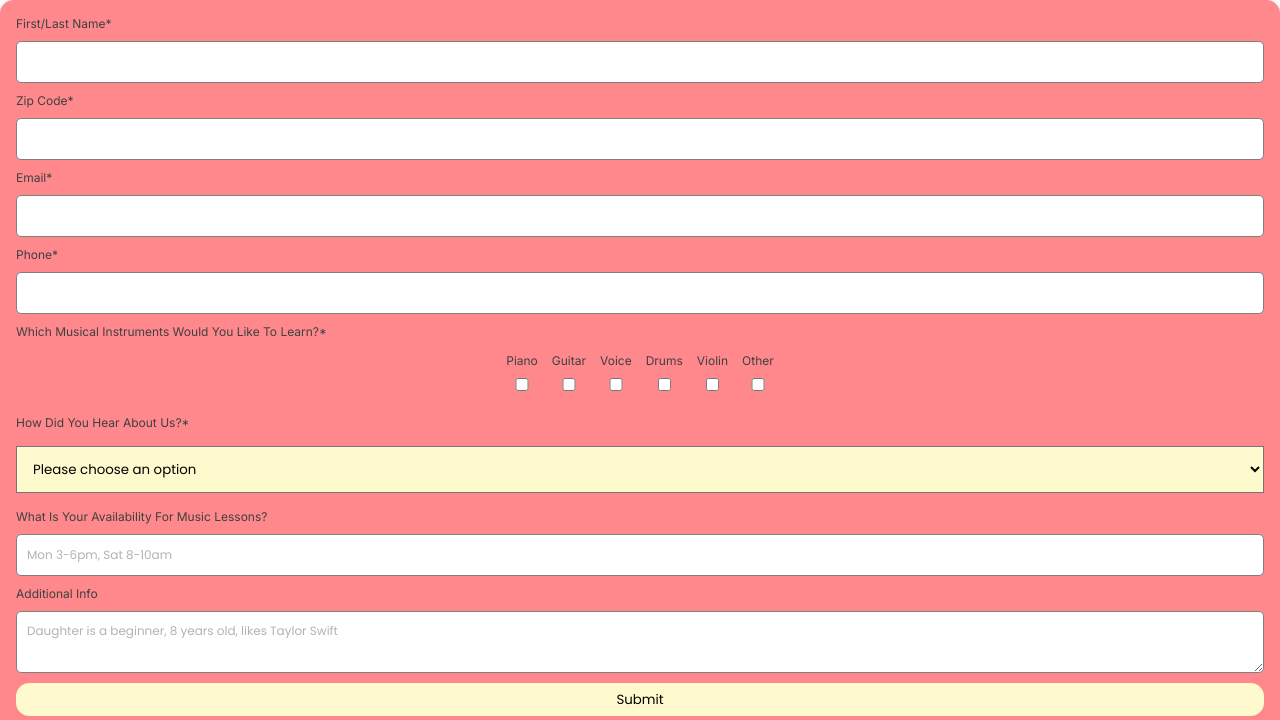
it: Form Input › validiation errors › renders the zipCode validation error for not having ANY digits
Click the button at (640, 700), box x1=16 y1=683 x2=1264 y2=716
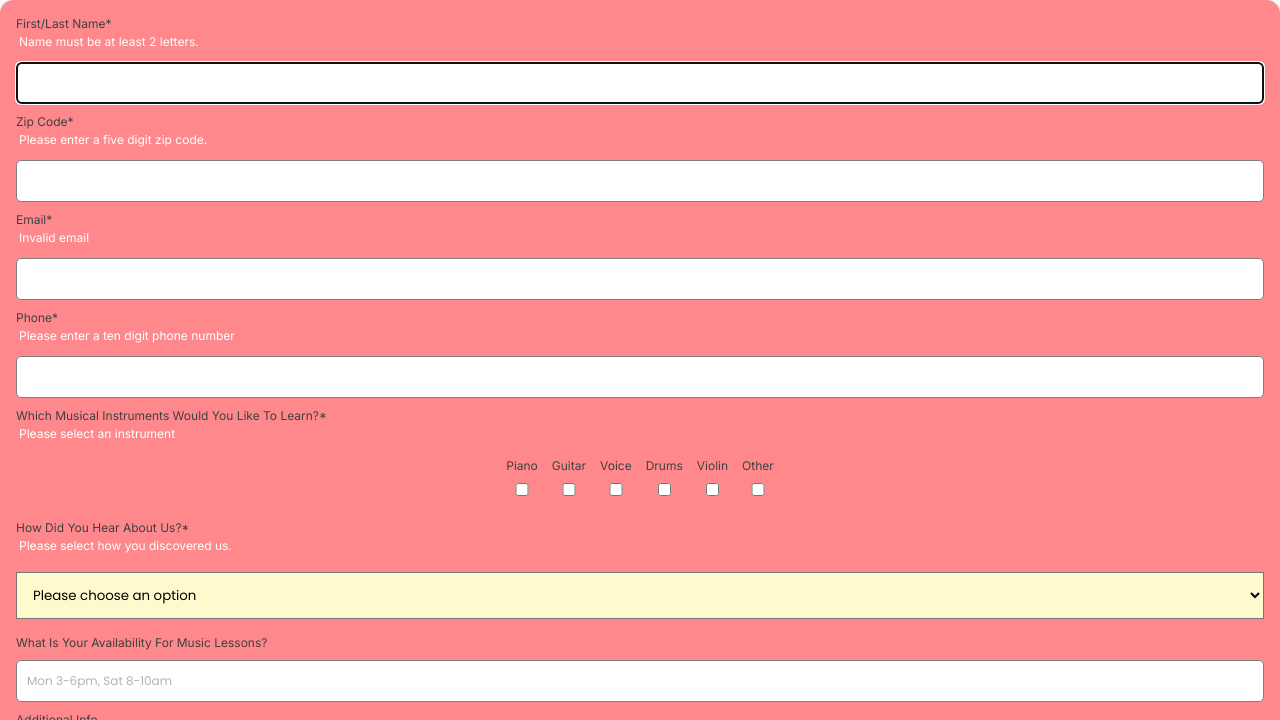
Now the text with test id "zipError" reads "Please enter a five digit zip code.", box x1=19 y1=132 x2=207 y2=147
